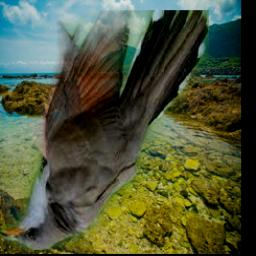Cuckoo: (0, 10, 208, 250)
